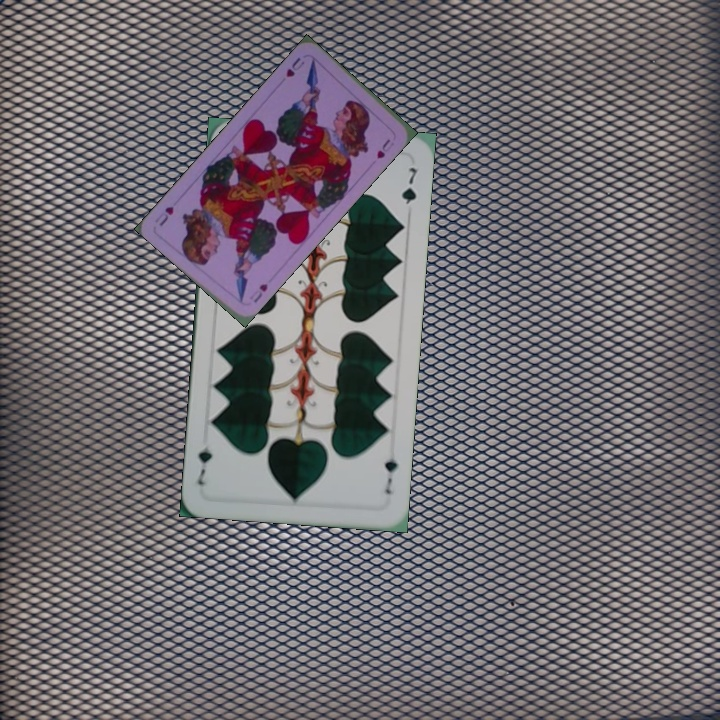G7: (380, 446, 401, 497)
HU: (282, 53, 307, 80), (245, 279, 270, 305)
